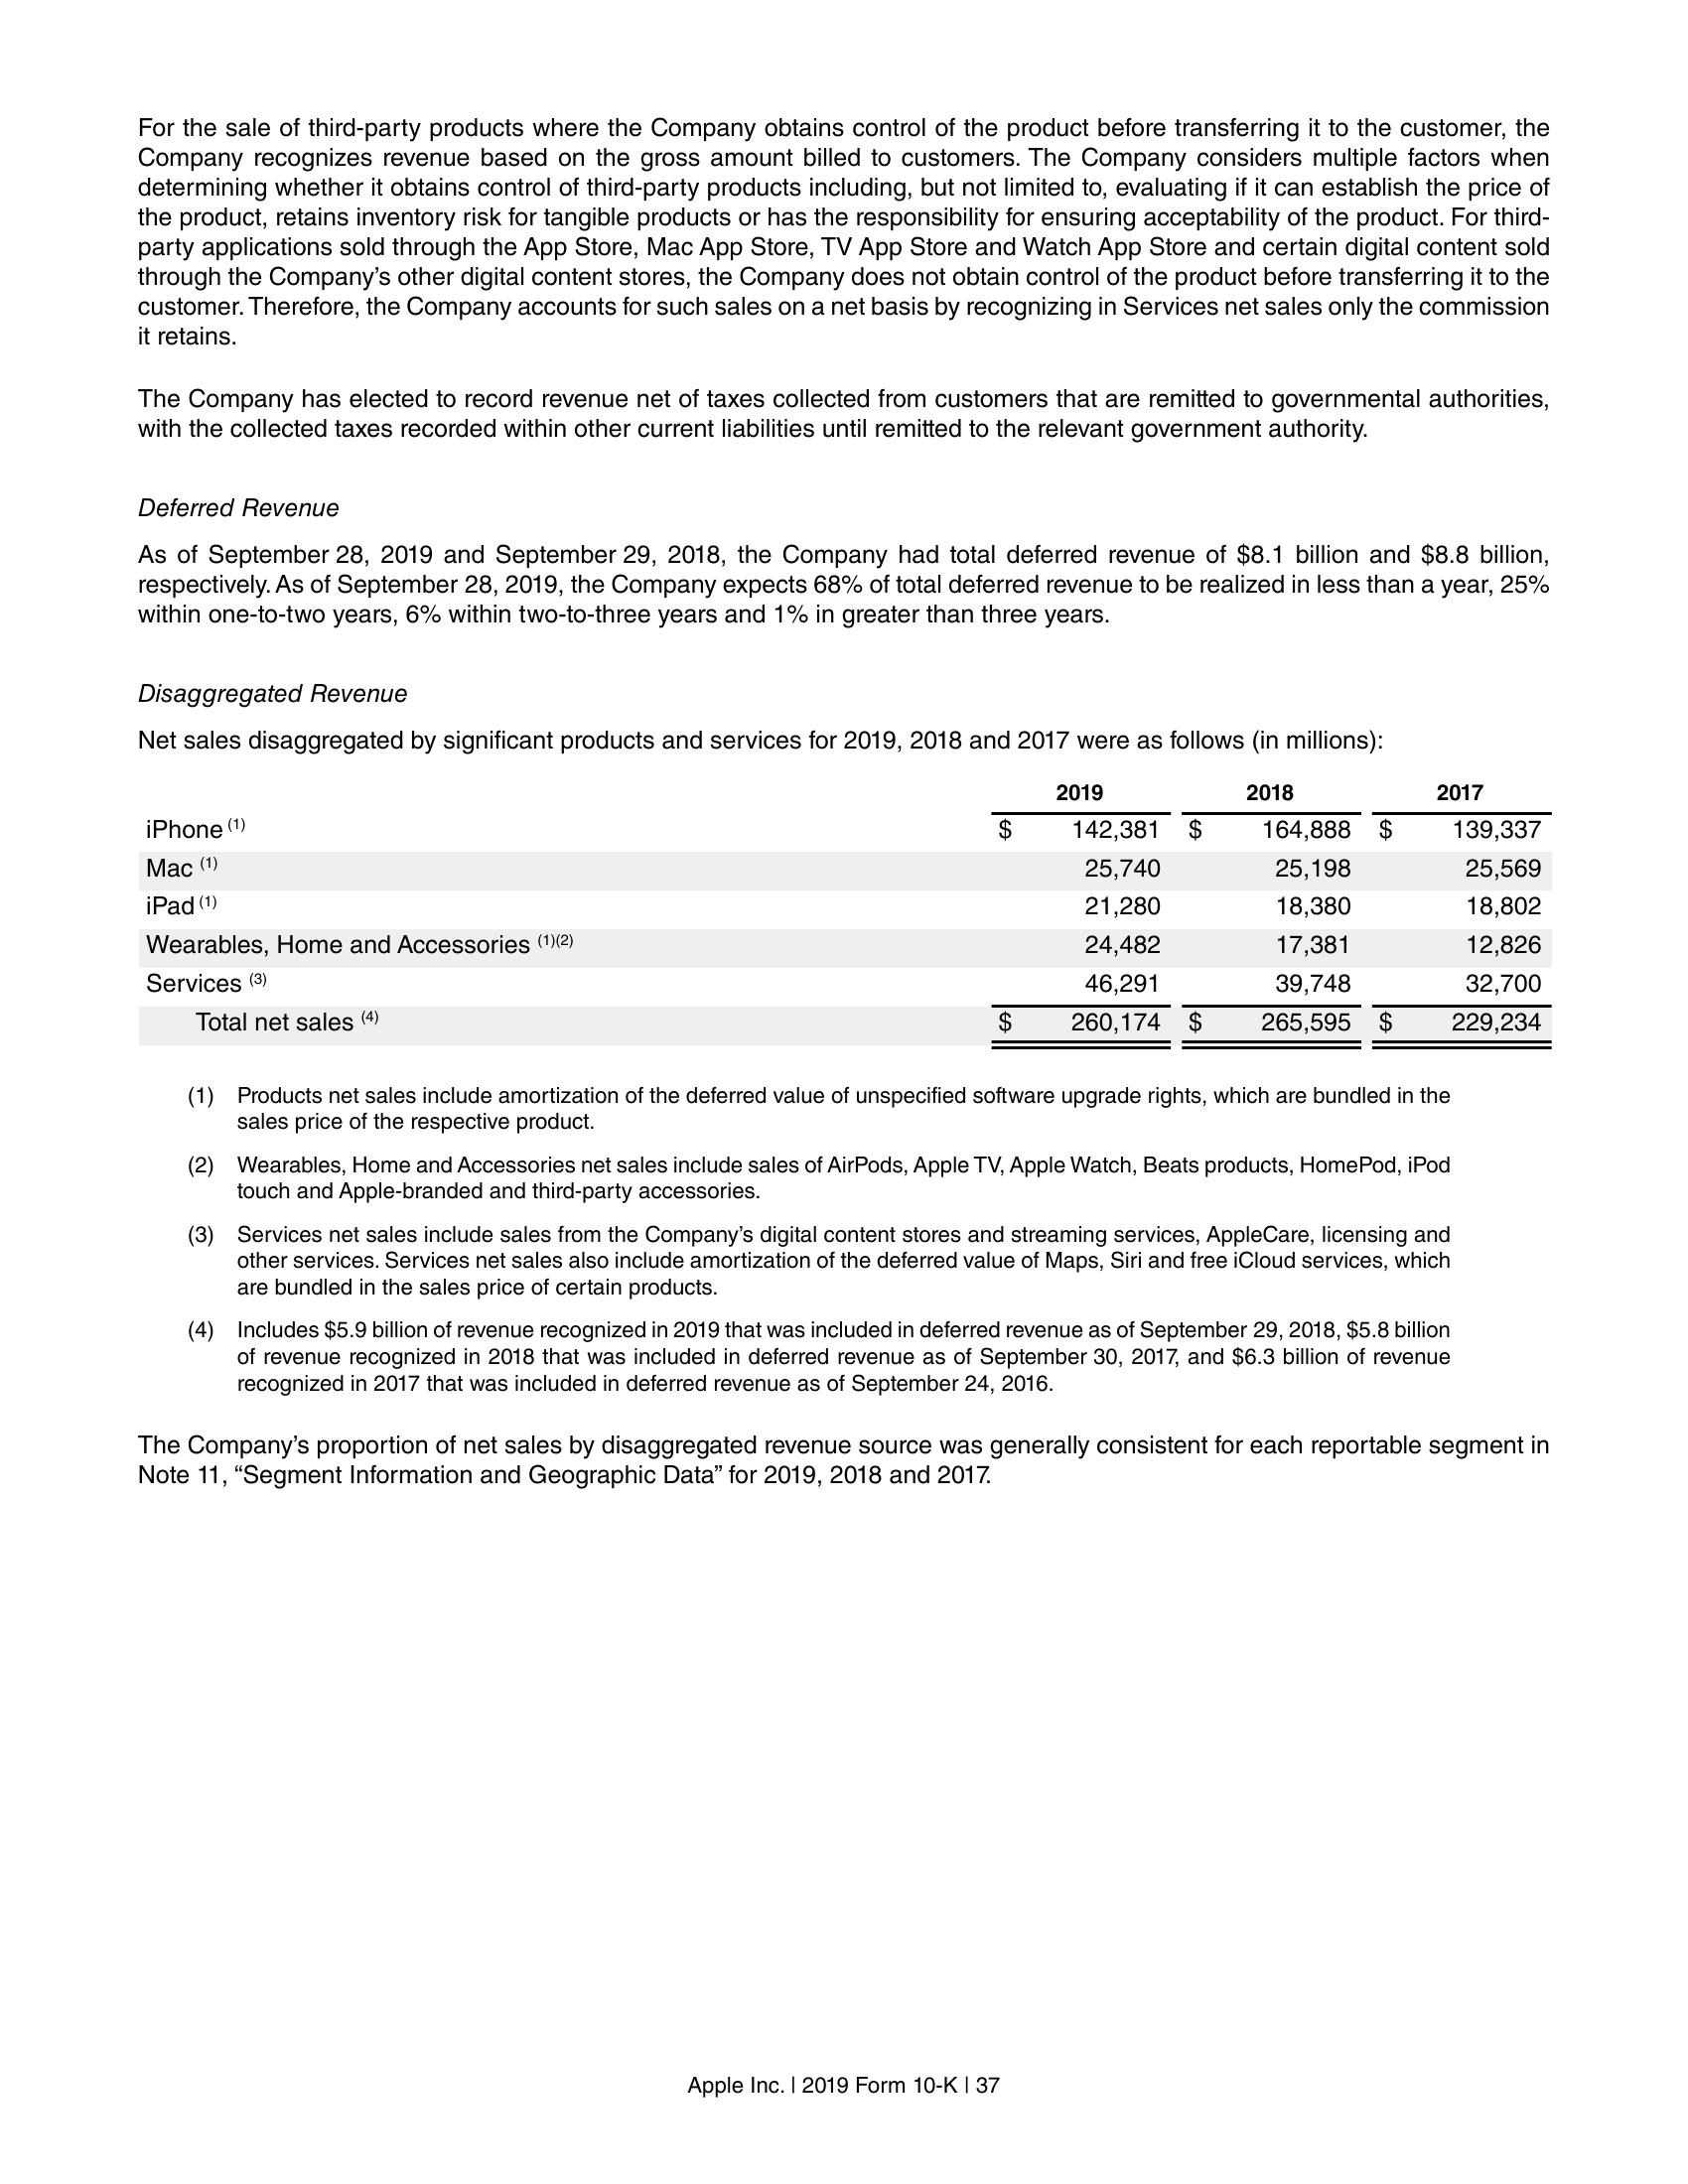table: (137, 780, 1553, 1055)
